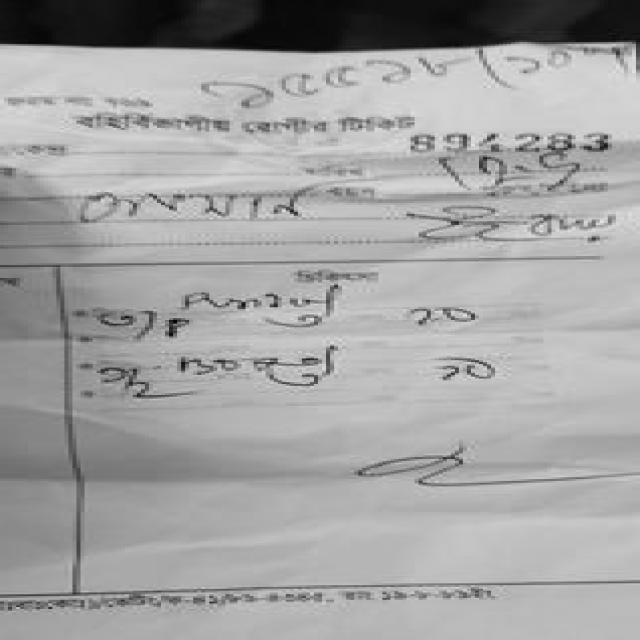medicine: (128, 269, 362, 326), (152, 342, 356, 388)
